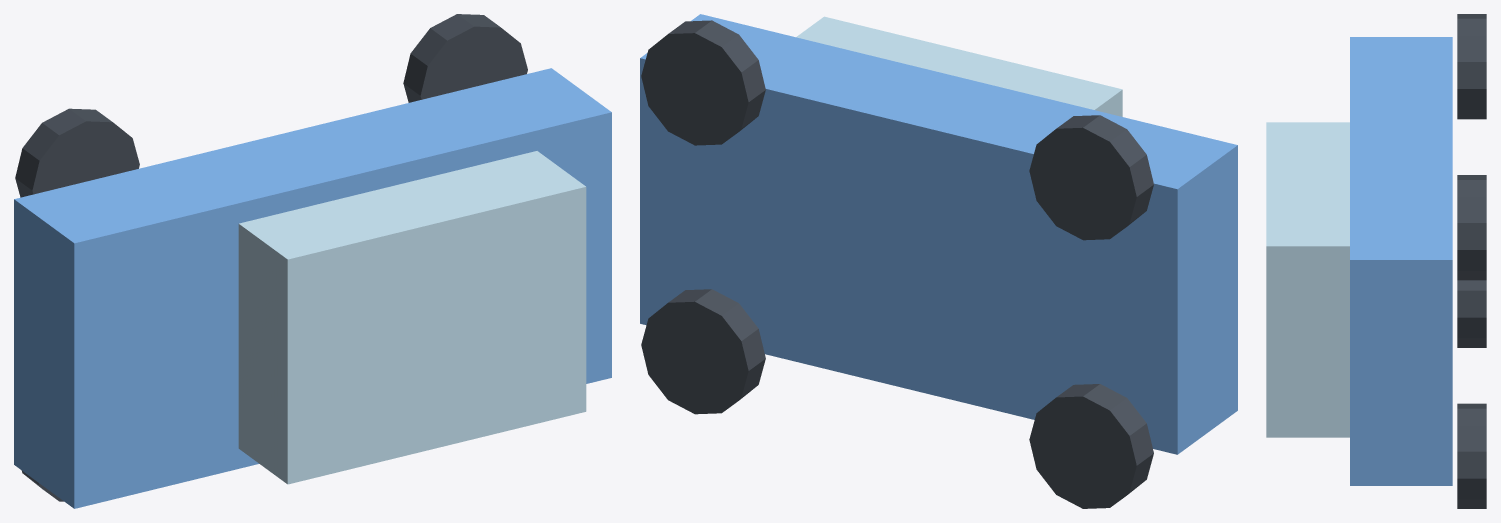
File: car_blue.glb
The picture shows the model from 3 angles, left to right: view 1: azimuth 30°, elevation 25°; view 2: azimuth 150°, elevation 25°; view 3: azimuth 270°, elevation 25°; orthographic projection. The views are drawn at different scales.
Visible parts, largest first — view 1: body_0, cabin_1, wheel_5, wheel_3; view 2: body_0, wheel_5, wheel_3, wheel_2, wheel_4, cabin_1; view 3: body_0, cabin_1, wheel_3, wheel_4, wheel_5, wheel_2.
Part boxes in pixels (bbox=[...]): body_0: bbox=[14, 68, 611, 508]; cabin_1: bbox=[238, 151, 586, 484]; wheel_5: bbox=[403, 14, 527, 102]; wheel_3: bbox=[15, 108, 139, 197]; body_0: bbox=[640, 14, 1237, 454]; wheel_5: bbox=[641, 20, 765, 145]; wheel_3: bbox=[1029, 115, 1153, 240]; wheel_2: bbox=[1029, 384, 1153, 508]; wheel_4: bbox=[641, 289, 765, 414]; cabin_1: bbox=[796, 16, 1122, 116]; body_0: bbox=[1350, 37, 1452, 485]; cabin_1: bbox=[1266, 122, 1349, 437]; wheel_3: bbox=[1457, 14, 1486, 119]; wheel_4: bbox=[1457, 403, 1486, 508]; wheel_5: bbox=[1457, 175, 1486, 280]; wheel_2: bbox=[1457, 280, 1486, 347].
Size of the model in its own units: 1.8 by 1.22 by 0.75.
